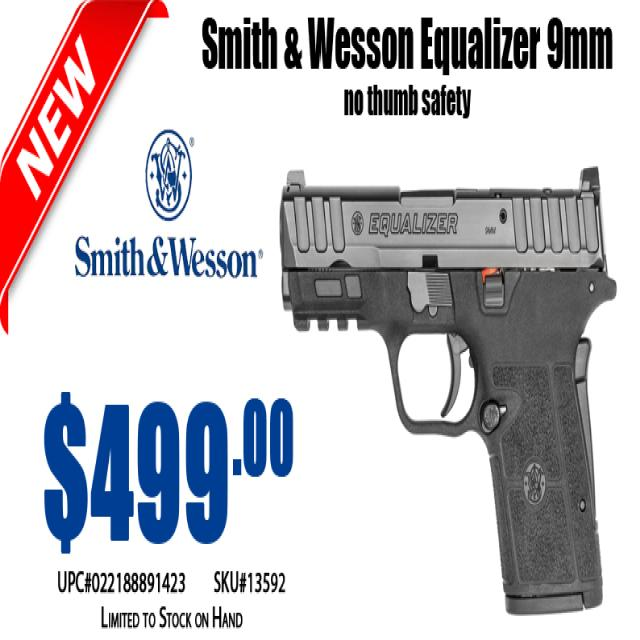HandGun: (279, 166, 620, 619)
